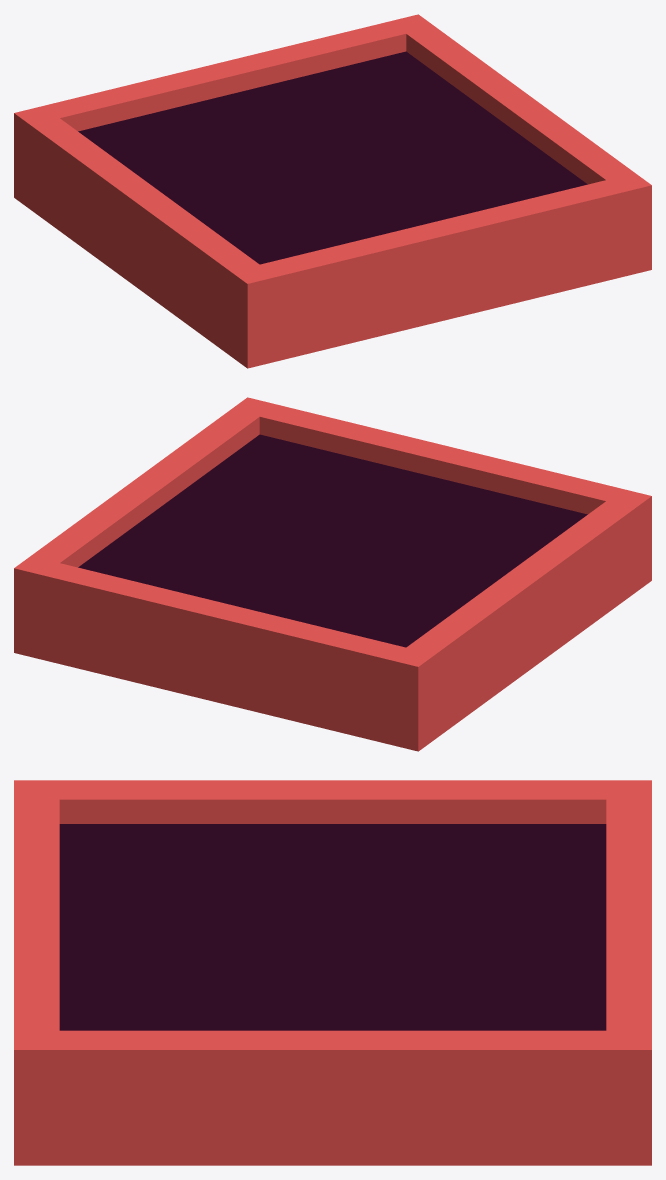
Rendered from CodingBlock_UnMoveable.fbx.
The picture shows the model from 3 angles, top to bottom: view 1: azimuth 30°, elevation 25°; view 2: azimuth 150°, elevation 25°; view 3: azimuth 270°, elevation 25°; orthographic projection. The views are drawn at different scales.
Parts seen in each view (by area): view 1: Cube.002; view 2: Cube.002; view 3: Cube.002.
Part boxes in pixels (x1,y1,x2,y2): Cube.002: (14, 14, 651, 368); Cube.002: (14, 397, 651, 751); Cube.002: (14, 780, 651, 1165).
Size of the model in its own units: 1 by 1 by 0.2.
